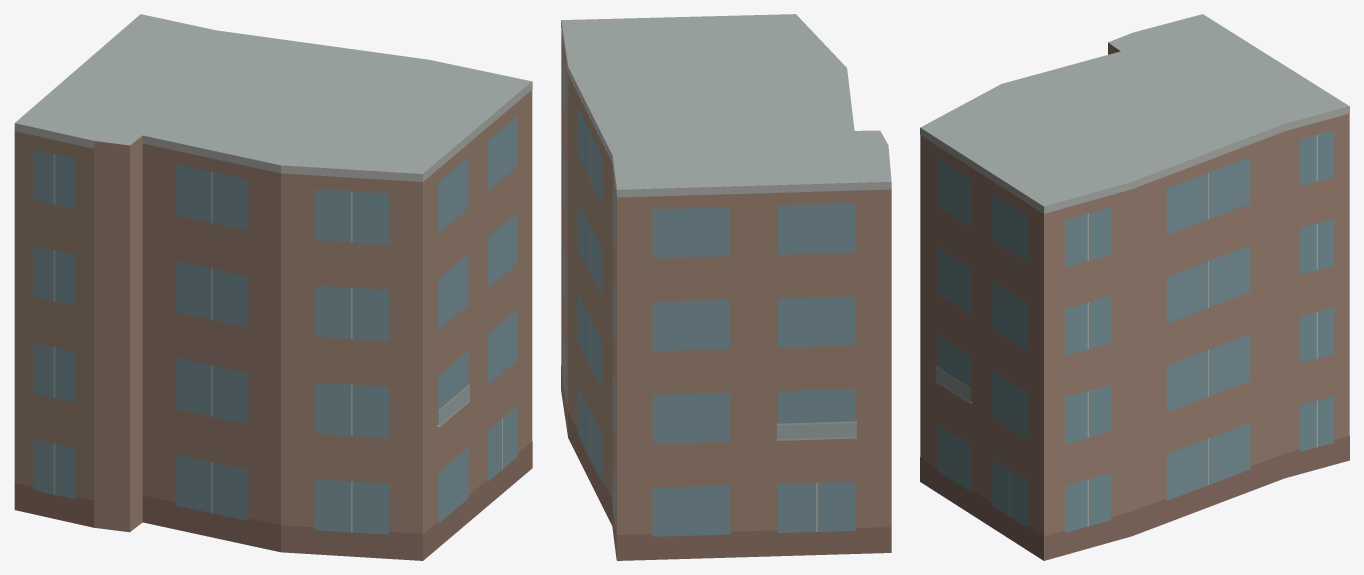
File: survey-upis-32937314.glb
3 views of the same model, side by side, from view 1: azimuth 30°, elevation 25°; view 2: azimuth 150°, elevation 25°; view 3: azimuth 270°, elevation 25° (orthographic). The views are drawn at different scales.
Visible parts, largest first — view 1: survey-upis-32937314.tmp; view 2: survey-upis-32937314.tmp; view 3: survey-upis-32937314.tmp.
Part boxes in pixels (x1,y1,x2,y2): survey-upis-32937314.tmp: (14, 14, 532, 560); survey-upis-32937314.tmp: (561, 14, 891, 560); survey-upis-32937314.tmp: (920, 14, 1349, 560).
Bounding box in the file's own units: 13.77 × 11.8 × 12.98.
